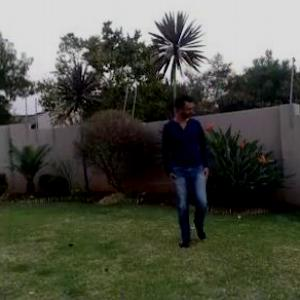follow: (162, 91, 213, 248)
